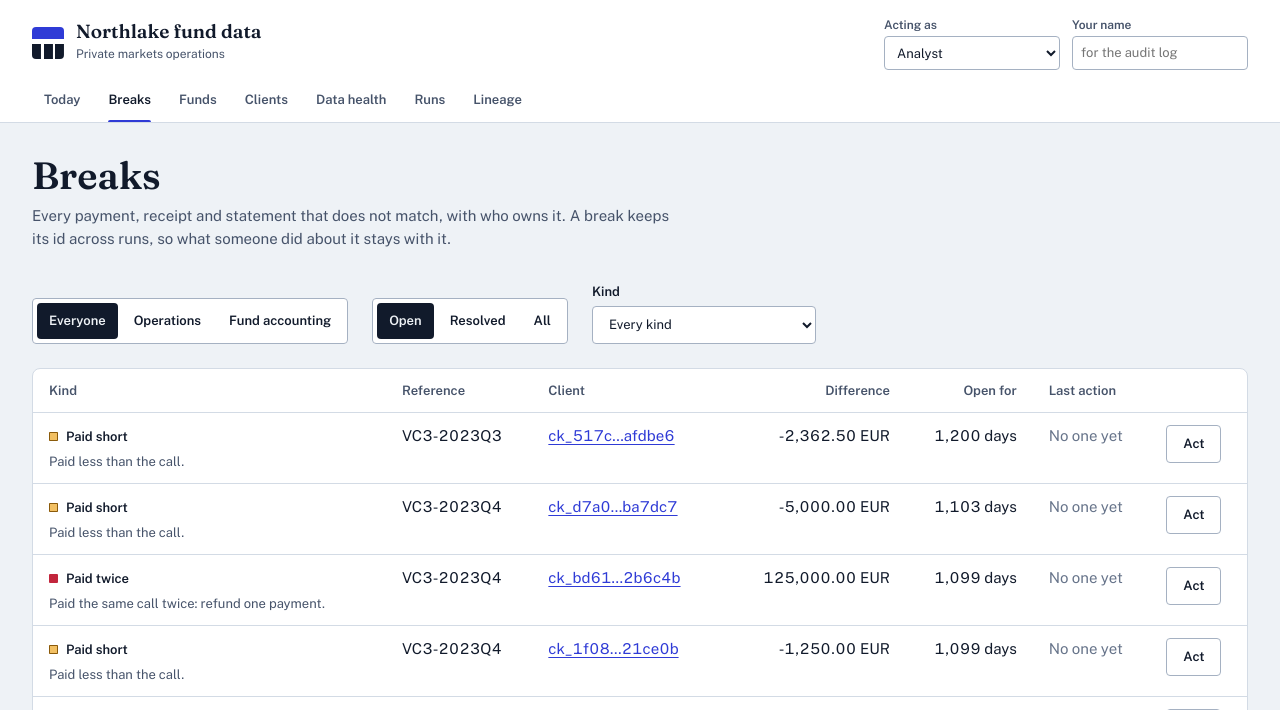
it: breaks › closes the dialog with Escape and returns focus
Click the button with aria-label "Act on": {"x": 1194, "y": 444} [1166,425,1222,463]
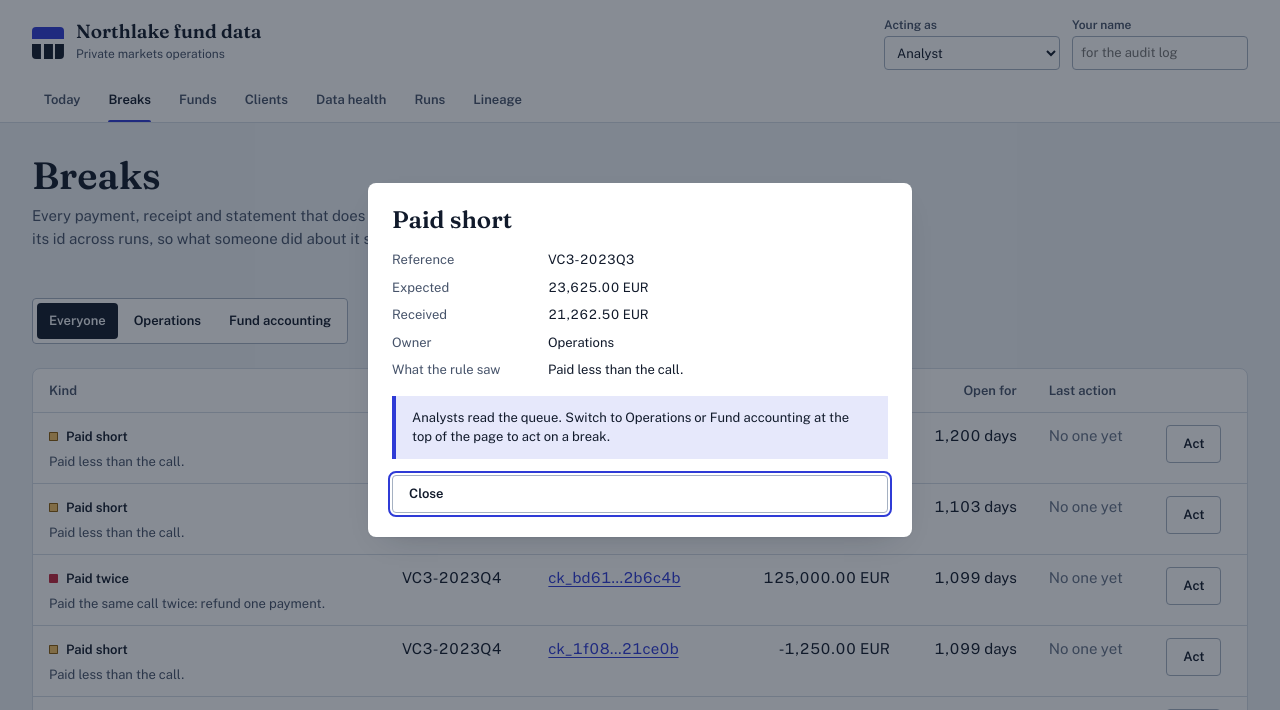
Expected: the dialog is shown, [368,183,912,537]
Press Escape
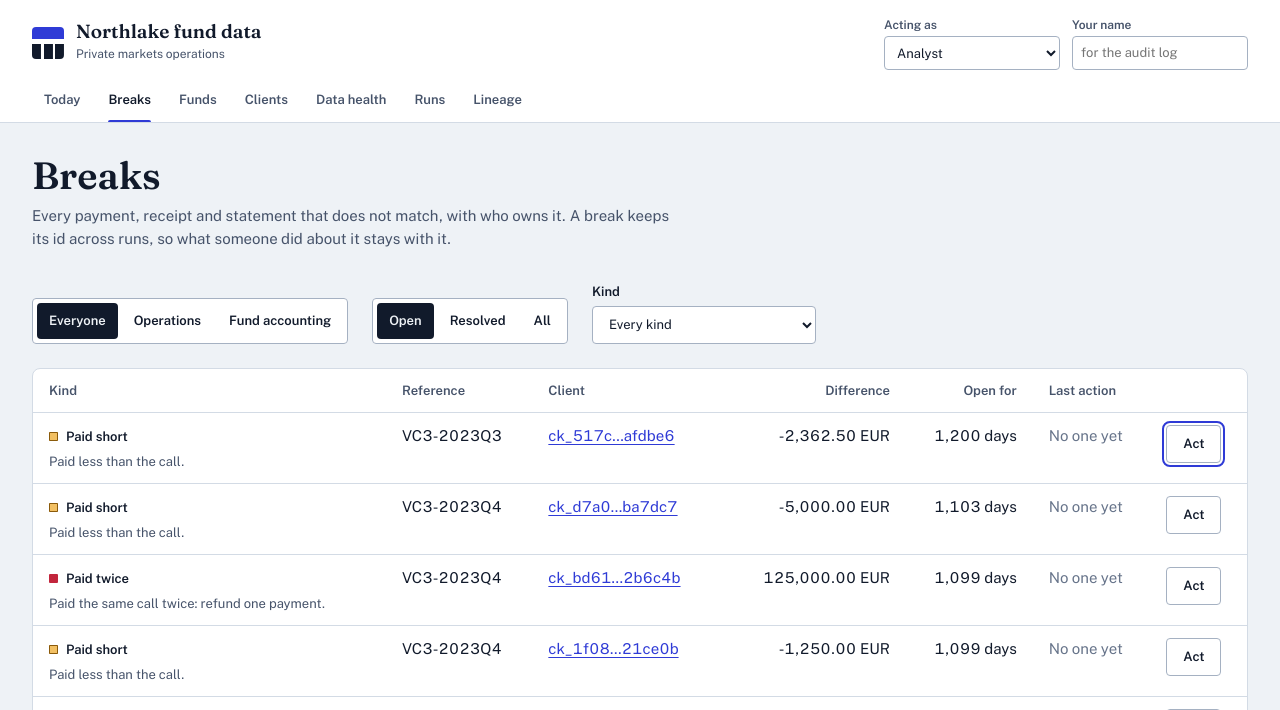
Expected: the dialog is gone
